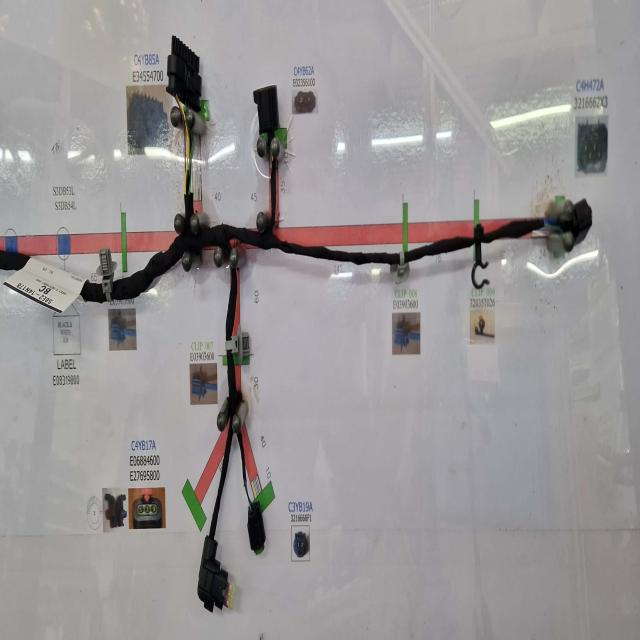Clip: (471, 224, 488, 289), (97, 249, 117, 303), (221, 318, 245, 359), (393, 249, 412, 280)
Connector: (167, 34, 201, 110), (198, 539, 228, 612), (253, 86, 279, 137), (246, 502, 265, 556), (572, 199, 592, 242)
Gape: (176, 101, 197, 196), (544, 211, 570, 236), (242, 482, 254, 509)
Info: (9, 256, 86, 313)
MHEV_N11_Cable: (83, 159, 541, 534)
